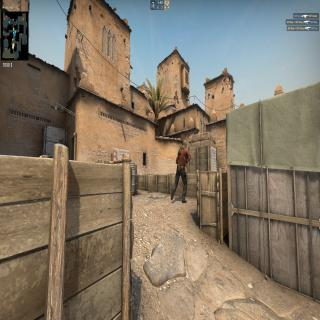T-Head: (182, 140, 187, 150)
